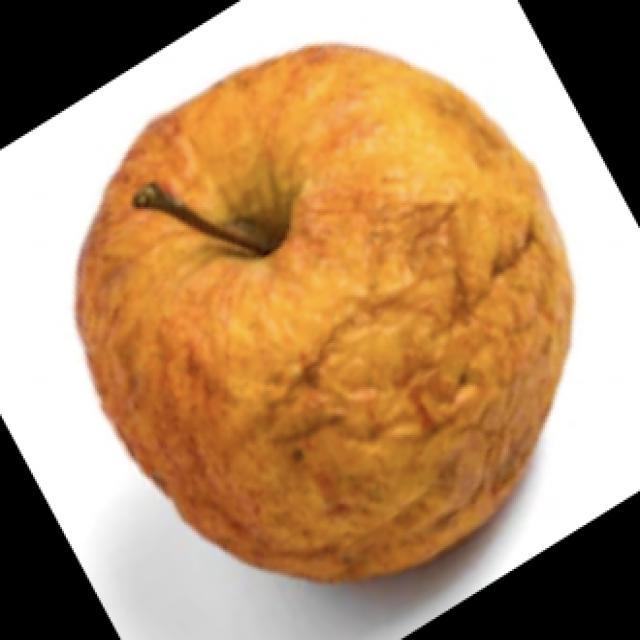Rotten: (72, 32, 583, 595)
